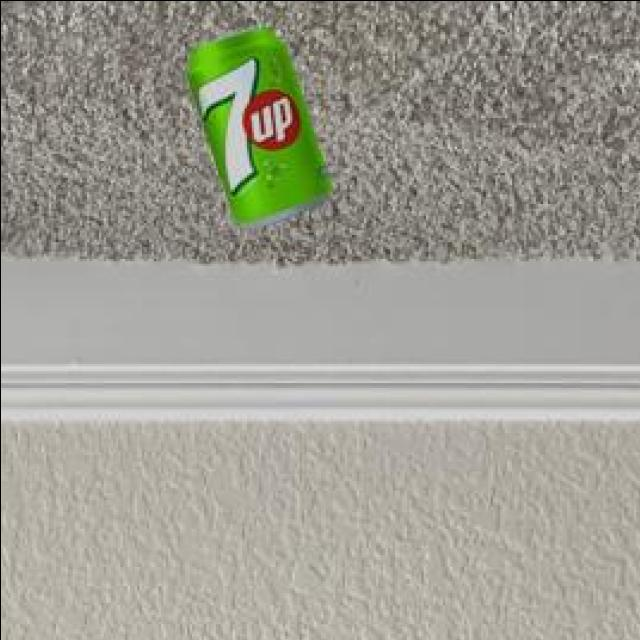logam: (190, 30, 333, 230)
